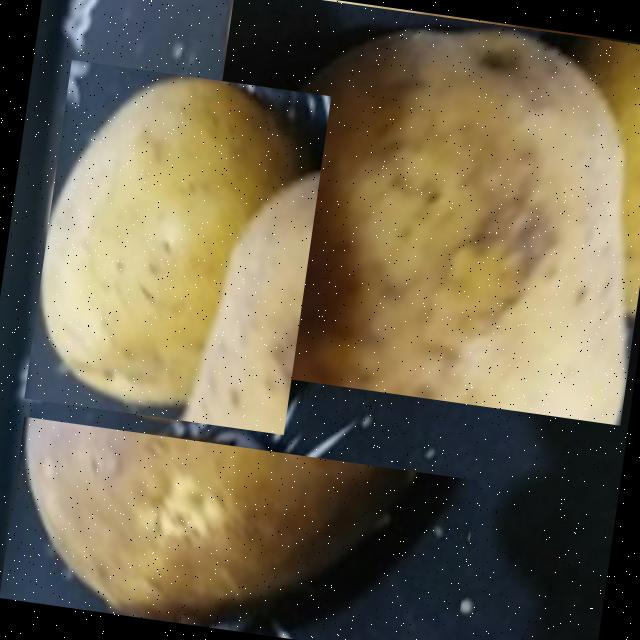Damaged potato: (182, 0, 640, 425), (0, 416, 478, 640)
Potato: (25, 59, 332, 434)
